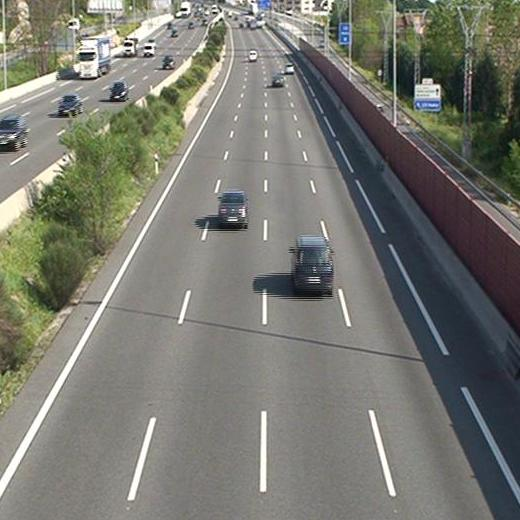car: (291, 237, 335, 292), (218, 192, 247, 224), (271, 76, 283, 86), (284, 63, 294, 74)
van: (249, 50, 255, 61)
